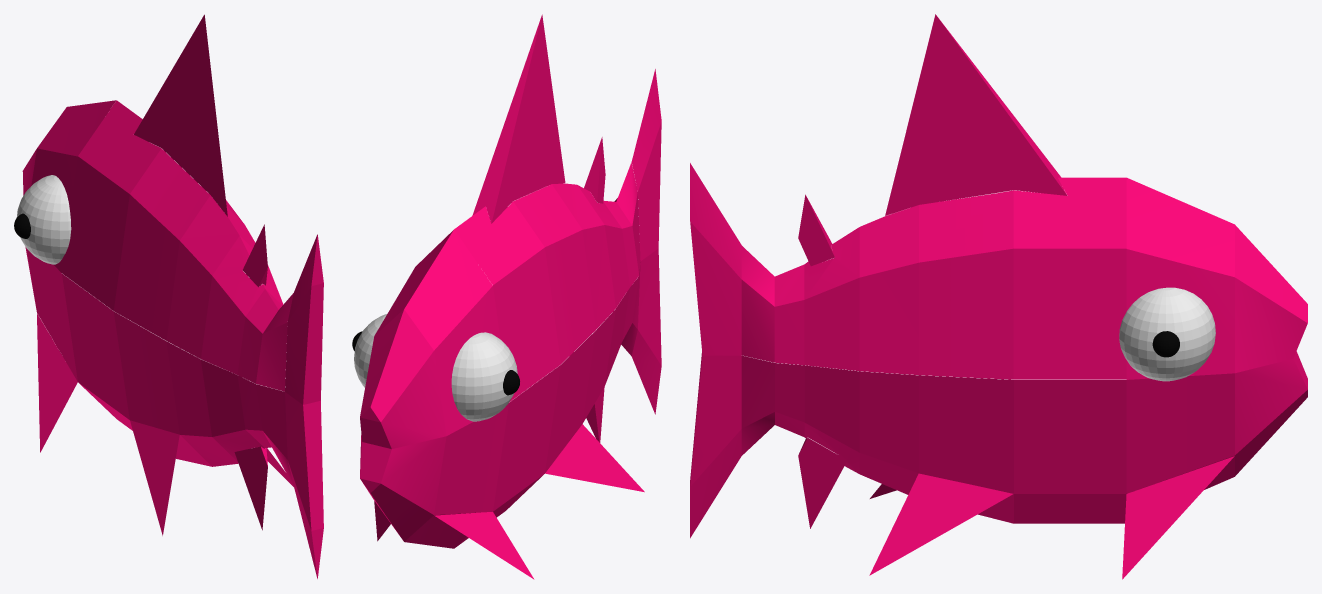
Rendered from codecod.glb.
3 views of the same model, side by side, from view 1: azimuth 30°, elevation 25°; view 2: azimuth 150°, elevation 25°; view 3: azimuth 270°, elevation 25° (orthographic). The views are drawn at different scales.
Visible parts, largest first — view 1: fish, Cornea.002; view 2: fish, Cornea.002, Cornea.001; view 3: fish, Cornea.001.
Part boxes in pixels (bbox=[...]): fish: bbox=[22, 14, 323, 578]; Cornea.002: bbox=[16, 175, 71, 264]; fish: bbox=[360, 14, 661, 579]; Cornea.002: bbox=[451, 332, 517, 421]; Cornea.001: bbox=[354, 314, 386, 387]; fish: bbox=[690, 14, 1307, 579]; Cornea.001: bbox=[1119, 287, 1215, 381].
Size of the model in its own units: 0.2068 by 0.5817 by 0.6208.
